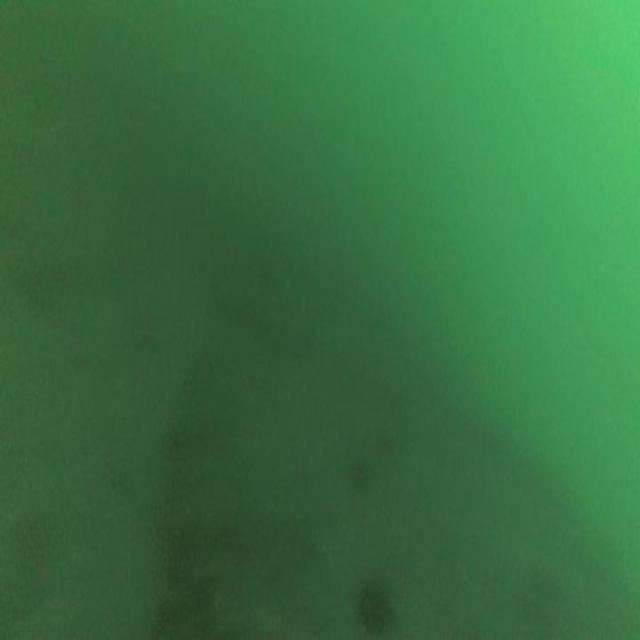echinus: (352, 570, 394, 640)
